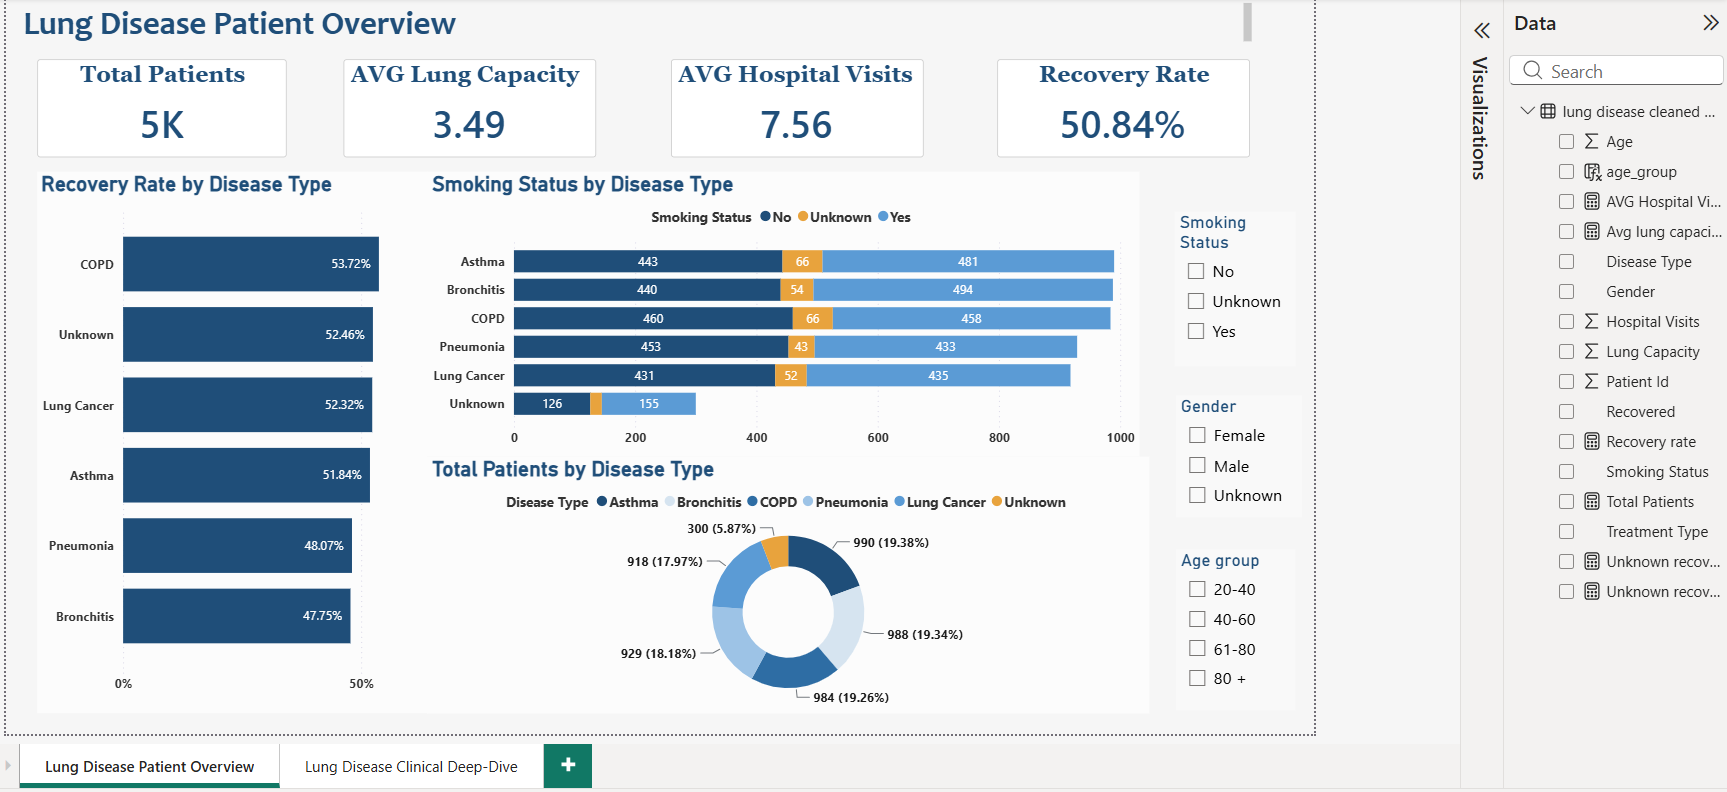

What the dashboard file says about the page in this screenshot:
{"tool":"powerbi","page":{"name":"Lung Disease Patient Overview","canvas":[1280,720],"ordinal":0},"visuals":[{"type":"cardVisual","title":"Total Patients","fields":{"Data":["lung disease cleaned data.Total Patients"]},"box":[30.2,60.4,244.3,96.1],"z":0},{"type":"cardVisual","title":"AVG Lung Capacity","fields":{"Data":["lung disease cleaned data.Avg lung capacity"]},"box":[329.8,60.4,247,96.1],"z":1000},{"type":"cardVisual","title":"AVG Hospital Visits","fields":{"Data":["lung disease cleaned data.AVG Hospital Visits"]},"box":[650,60.4,247,96.1],"z":1001},{"type":"cardVisual","title":"Recovery Rate","fields":{"Data":["lung disease cleaned data.Recovery rate"]},"box":[970.2,60.4,247,96.1],"z":1002},{"type":"clusteredBarChart","title":"Recovery Rate by Disease Type","fields":{"Category":["lung disease cleaned data.Disease Type"],"Y":["lung disease cleaned data.Recovery rate"]},"box":[30.2,170.2,381.5,529.7],"z":1003},{"type":"slicer","title":"Gender","fields":{"Values":["lung disease cleaned data.Gender"]},"box":[1144.4,388.3,123.5,119.4],"z":1004},{"type":"slicer","title":"Smoking Status","fields":{"Values":["lung disease cleaned data.Smoking Status"]},"box":[1143.1,208.6,118,150.9],"z":1005},{"type":"slicer","title":"Age group","fields":{"Values":["lung disease cleaned data.age_group"]},"box":[1144.4,539.3,116.6,157.8],"z":1006},{"type":"donutChart","fields":{"Category":["lung disease cleaned data.Disease Type"],"Y":["lung disease cleaned data.Total Patients"]},"box":[411.7,448.7,706.7,251.1],"z":1007},{"type":"barChart","title":"Smoking Status by Disease Type","fields":{"Category":["lung disease cleaned data.Disease Type"],"Y":["lung disease cleaned data.Total Patients"],"Series":["lung disease cleaned data.Smoking Status"]},"box":[411.7,170.2,697.1,278.6],"z":1008},{"type":"textbox","box":[12.3,0,1211.7,48],"z":1009}]}

Visuals, with their boxes on the page's 1280x720 design canvas (x1, y1, x2, y2). These are canvas units, not pixel positions in the 1727x792 screenshot, which may show the page scaled, cropped or inside an application window:
"Total Patients" cardVisual: bbox(30, 60, 274, 156)
"AVG Lung Capacity" cardVisual: bbox(330, 60, 577, 156)
"AVG Hospital Visits" cardVisual: bbox(650, 60, 897, 156)
"Recovery Rate" cardVisual: bbox(970, 60, 1217, 156)
"Recovery Rate by Disease Type" clusteredBarChart: bbox(30, 170, 412, 700)
"Gender" slicer: bbox(1144, 388, 1268, 508)
"Smoking Status" slicer: bbox(1143, 209, 1261, 360)
"Age group" slicer: bbox(1144, 539, 1261, 697)
donutChart - lung disease cleaned data.Disease Type x lung disease cleaned data.Total Patients: bbox(412, 449, 1118, 700)
"Smoking Status by Disease Type" barChart: bbox(412, 170, 1109, 449)
textbox: bbox(12, 0, 1224, 48)
